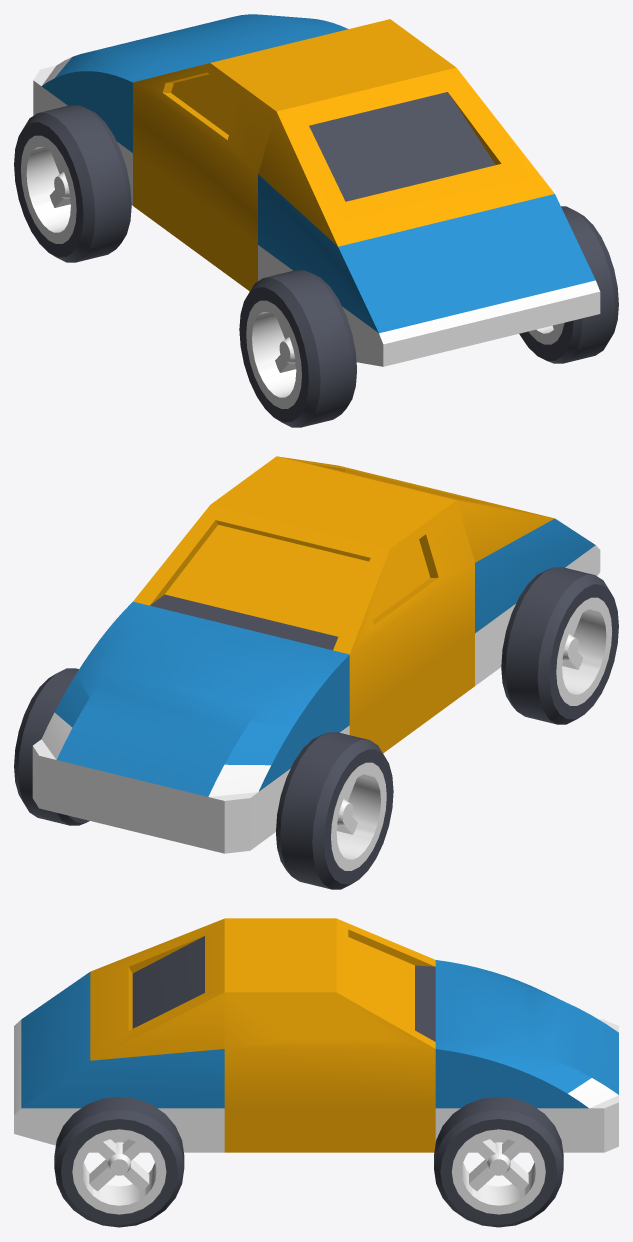
The model's file is car.fbx.
3 views of the same model, one above another, from view 1: azimuth 30°, elevation 25°; view 2: azimuth 150°, elevation 25°; view 3: azimuth 270°, elevation 25° (orthographic). The views are drawn at different scales.
Parts seen in each view (by area): view 1: trunk_smooth_1, windshield_default_0, wheel_smallSports_5, wheel_smallSports_6, hood_sport_2, wheel_smallSports_3; view 2: windshield_default_0, hood_sport_2, wheel_smallSports_5, wheel_smallSports_6, trunk_smooth_1, wheel_smallSports_4; view 3: windshield_default_0, trunk_smooth_1, hood_sport_2, wheel_smallSports_3, wheel_smallSports_4.
Boxes of the visible parts, left/top/right/bottom form: trunk_smooth_1: left=258, top=67, right=600, bottom=366; windshield_default_0: left=133, top=19, right=455, bottom=291; wheel_smallSports_5: left=14, top=105, right=131, bottom=262; wheel_smallSports_6: left=239, top=270, right=356, bottom=427; hood_sport_2: left=33, top=14, right=348, bottom=205; wheel_smallSports_3: left=519, top=206, right=618, bottom=363; windshield_default_0: left=133, top=456, right=474, bottom=753; hood_sport_2: left=32, top=601, right=349, bottom=853; wheel_smallSports_5: left=276, top=732, right=393, bottom=889; wheel_smallSports_6: left=501, top=567, right=618, bottom=724; trunk_smooth_1: left=277, top=456, right=600, bottom=685; wheel_smallSports_4: left=14, top=668, right=89, bottom=825; windshield_default_0: left=224, top=918, right=435, bottom=1152; trunk_smooth_1: left=14, top=918, right=224, bottom=1152; hood_sport_2: left=435, top=960, right=618, bottom=1152; wheel_smallSports_3: left=54, top=1096, right=184, bottom=1227; wheel_smallSports_4: left=434, top=1096, right=563, bottom=1227.
Size of the model in its own units: 14.3 by 11.08 by 28.7.
